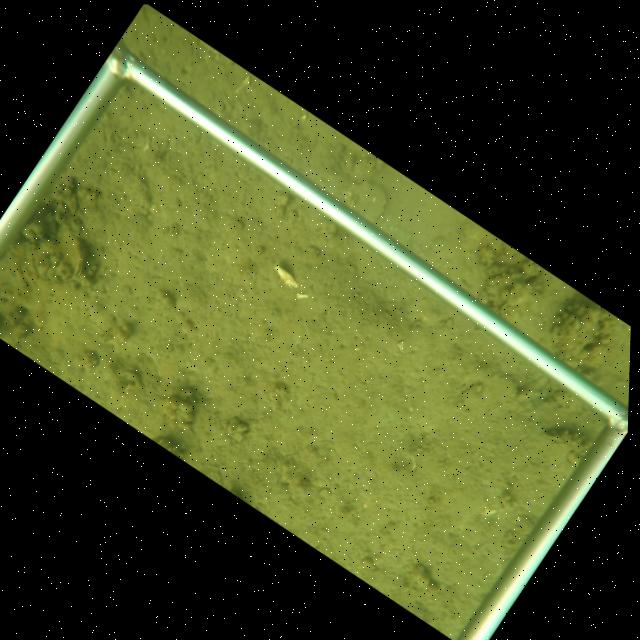Oyster-Closed: (53, 221, 85, 278)
Oyster-Indeterminate: (344, 181, 389, 222)
